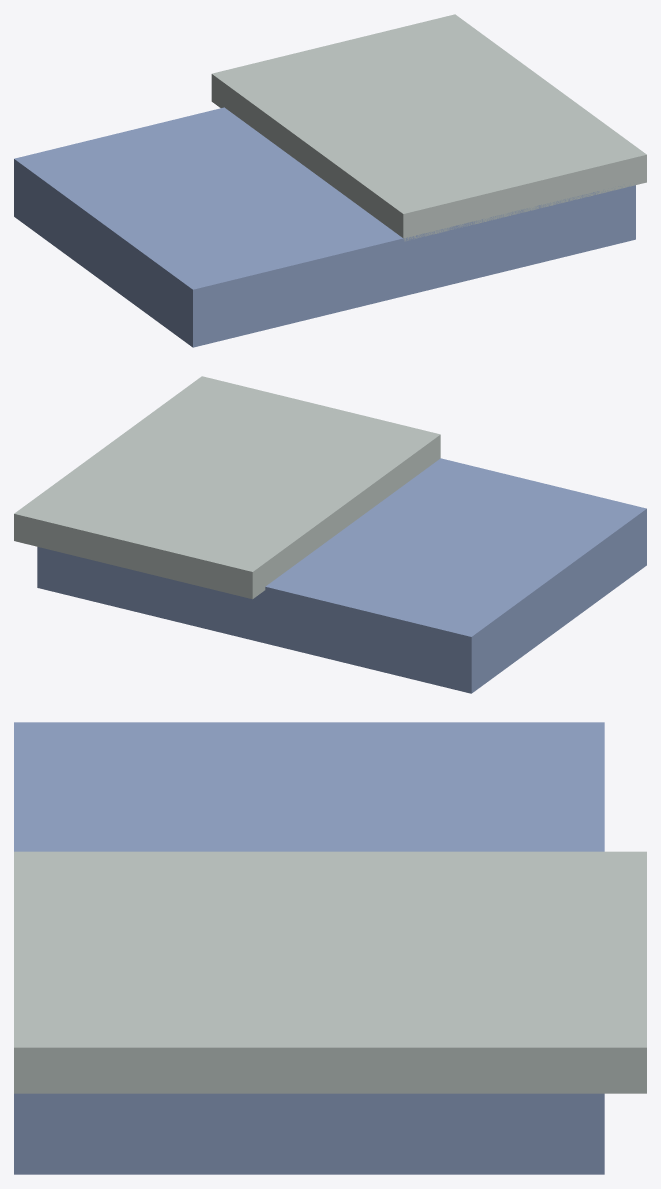
The model's file is cleaning_cloth.glb.
3 renders of one model, top to bottom at view 1: azimuth 30°, elevation 25°; view 2: azimuth 150°, elevation 25°; view 3: azimuth 270°, elevation 25°, orthographic. The views are drawn at different scales.
Parts seen in each view (by area): view 1: Cloth; view 2: Cloth; view 3: Cloth.
Part boxes in pixels (box(x1,y1,x2,y2)): Cloth: box(14, 14, 646, 347); Cloth: box(14, 376, 646, 693); Cloth: box(14, 722, 646, 1174).
Bounding box in the file's own units: 0.205 × 0.0355 × 0.15.
